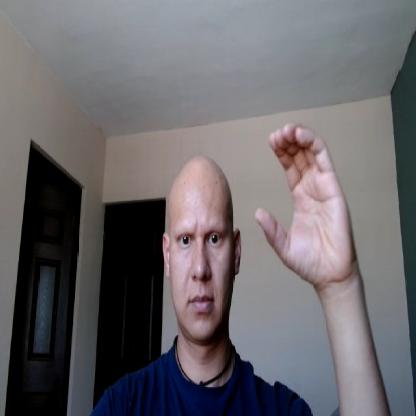C: (254, 121, 355, 284)
